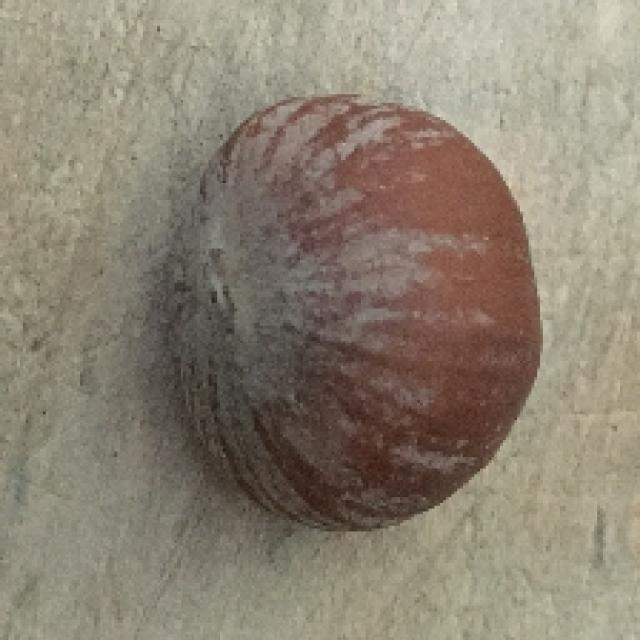qualityHazelnut: (152, 88, 540, 534)
